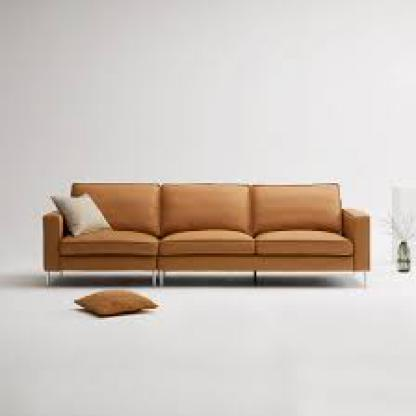sofa: (39, 180, 371, 288)
